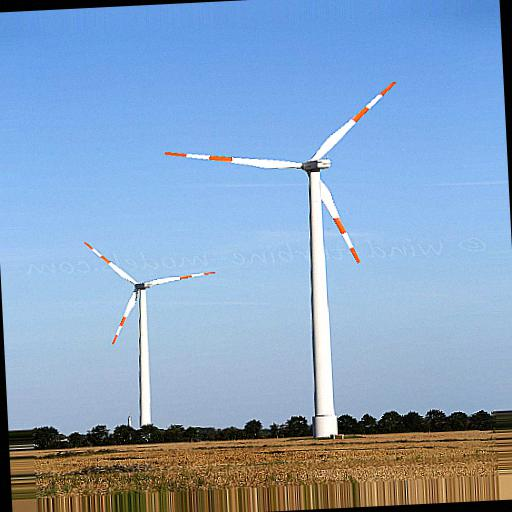wind turbine: (163, 81, 399, 439), (83, 239, 217, 425)
